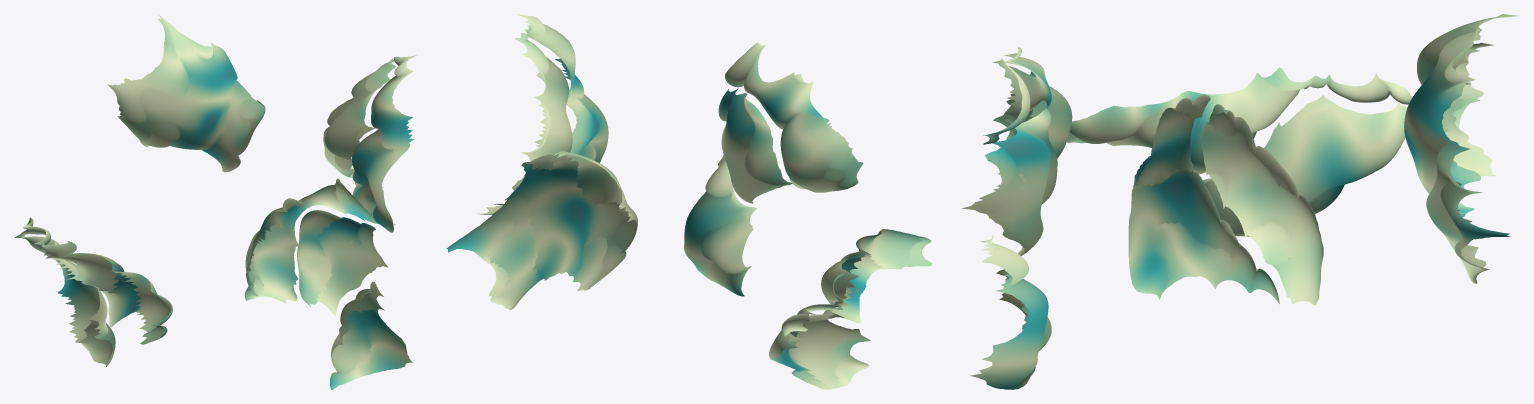
The model's file is Bubble_world_planes.fbx.
The picture shows the model from 3 angles, left to right: view 1: azimuth 30°, elevation 25°; view 2: azimuth 150°, elevation 25°; view 3: azimuth 270°, elevation 25°; orthographic projection. The views are drawn at different scales.
Visible parts, largest first — view 1: Displaced_plane, Displaced_plane_3, Displaced_plane_1, Displaced_plane_2; view 2: Displaced_plane, Displaced_plane_3, Displaced_plane_1, Displaced_plane_2; view 3: Displaced_plane_2, Displaced_plane_1, Displaced_plane, Displaced_plane_3.
Boxes of the visible parts, <box> form: Displaced_plane: <box>244,178,412,389</box>; Displaced_plane_3: <box>108,14,265,172</box>; Displaced_plane_1: <box>15,217,172,366</box>; Displaced_plane_2: <box>323,55,416,232</box>; Displaced_plane: <box>684,42,863,296</box>; Displaced_plane_3: <box>446,150,637,310</box>; Displaced_plane_1: <box>769,229,932,389</box>; Displaced_plane_2: <box>476,14,608,214</box>; Displaced_plane_2: <box>1128,94,1323,305</box>; Displaced_plane_1: <box>1066,67,1411,236</box>; Displaced_plane: <box>961,47,1072,389</box>; Displaced_plane_3: <box>1404,14,1518,283</box>.
Bounding box in the file's own units: 99.57 × 72.88 × 101.
Materials: 4 (4 with a texture image).
